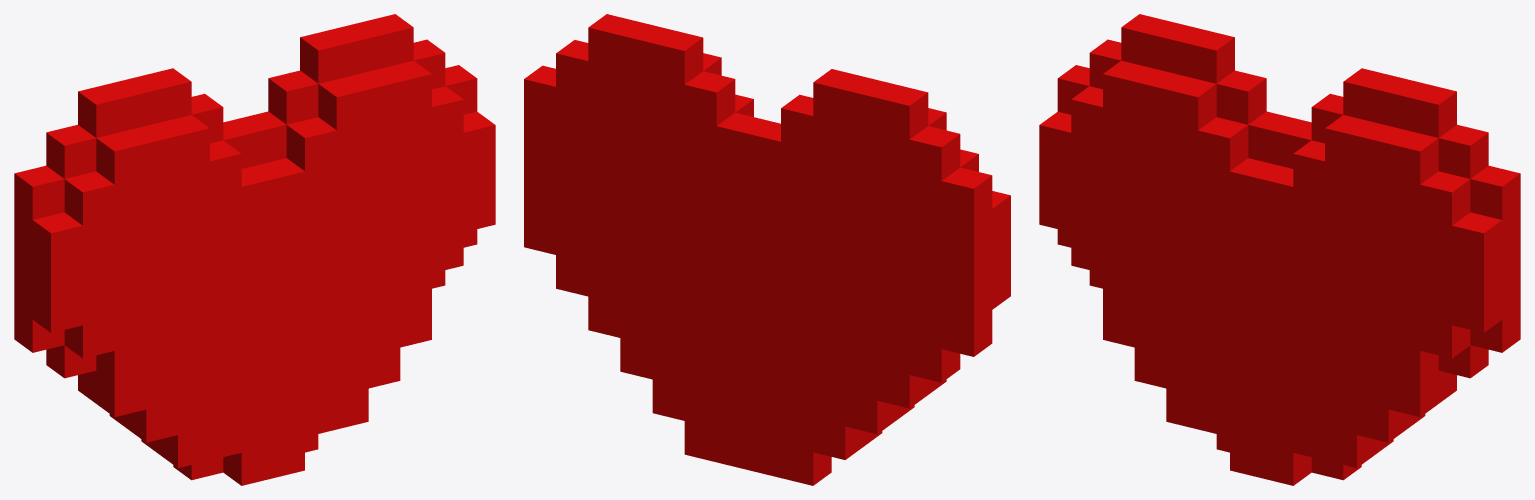
File: life.obj
3 views of the same model, side by side, from view 1: azimuth 30°, elevation 25°; view 2: azimuth 150°, elevation 25°; view 3: azimuth 330°, elevation 25° (orthographic).
Bounding box in the file's own units: 14 × 12 × 2.
Materials: 1 (1 with a texture image).
